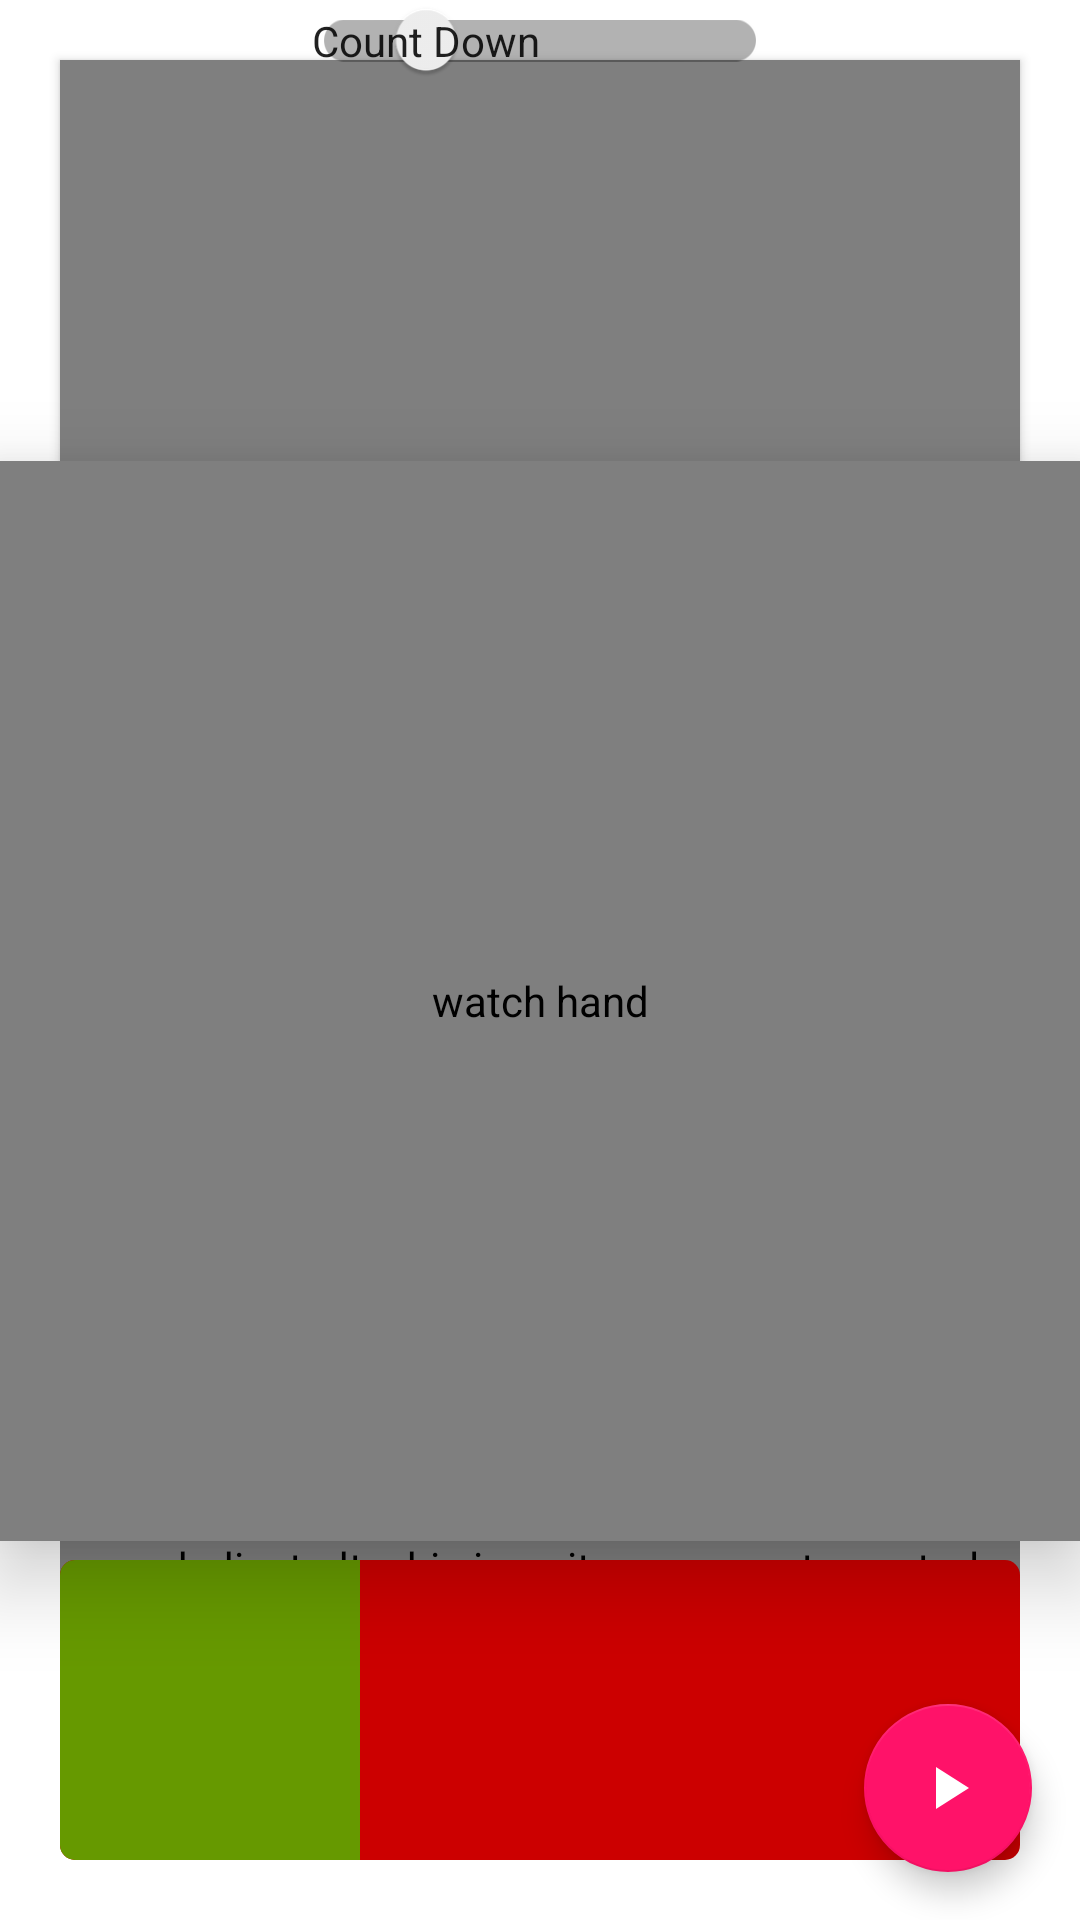

Icons on this 1080px×1920px Android screen, each with the point to tap as point (x, y):
play fab: point (948, 1788)
